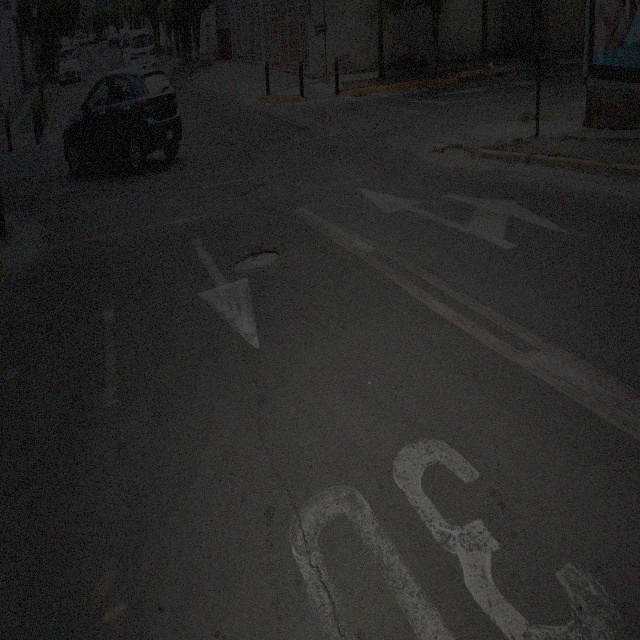pothole: (234, 245, 281, 277)
